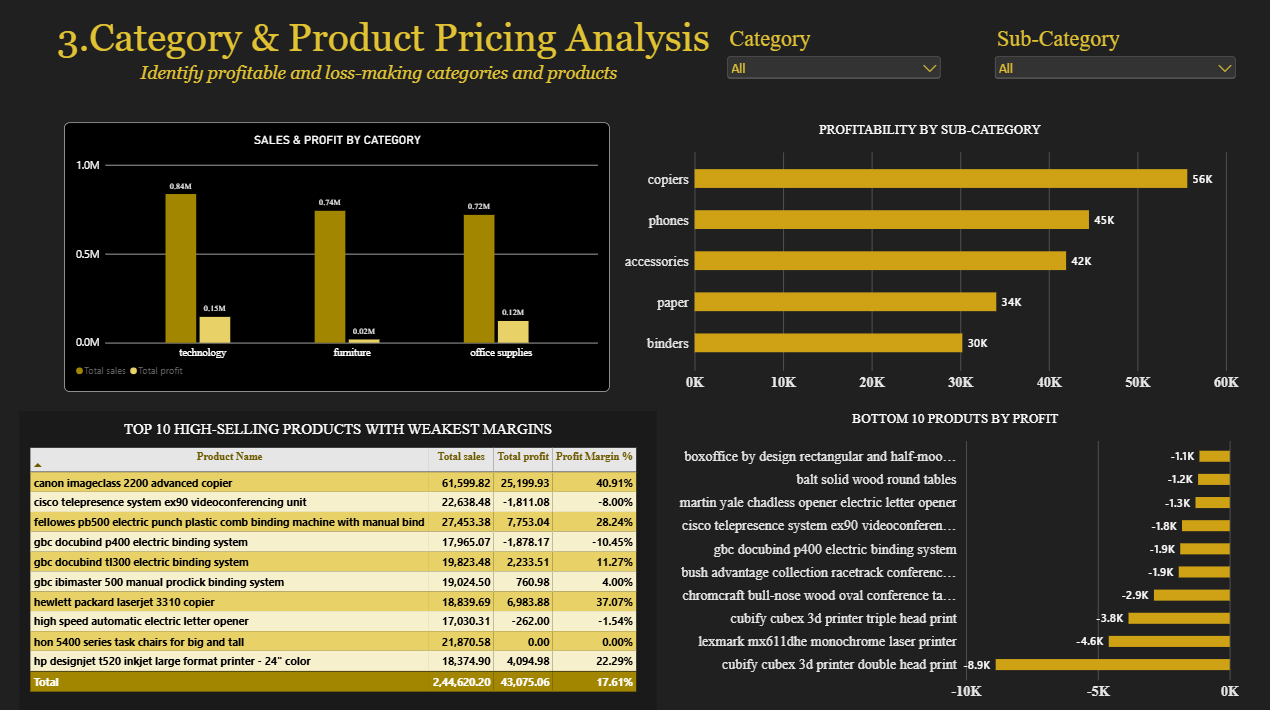

The page's visual inventory and layout, read from the dashboard file:
{"tool":"powerbi","page":{"name":"Category & Product","canvas":[1920,1080],"ordinal":2},"visuals":[{"type":"textbox","box":[70.6,23.5,1024.3,139.3],"z":0},{"type":"clusteredBarChart","title":"BOTTOM 10 PRODUTS BY PROFIT","fields":{"Category":["superstore_cleaned.Product Name"],"Y":["superstore_cleaned.Total profit"]},"box":[1016.7,620.8,856.2,437.5],"z":1000},{"type":"tableEx","title":"TOP 10 HIGH-SELLING PRODUCTS WITH WEAKEST MARGINS","fields":{"Values":["superstore_cleaned.Product Name","superstore_cleaned.Total sales","superstore_cleaned.Total profit","superstore_cleaned.Profit Margin %"]},"box":[31.2,620.8,962.5,458.3],"z":2000},{"type":"barChart","title":"PROFITABILITY BY SUB-CATEGORY","fields":{"Category":["superstore_cleaned.Sub-Category"],"Y":["superstore_cleaned.Total profit"]},"box":[941.7,185.4,931.2,406.2],"z":4000},{"type":"clusteredColumnChart","title":"SALES & PROFIT BY CATEGORY","fields":{"Category":["superstore_cleaned.Category"],"Y":["superstore_cleaned.Total sales","superstore_cleaned.Total profit"]},"box":[100,185.4,822.9,406.2],"z":5000},{"type":"slicer","fields":{"Values":["superstore_cleaned.Sub-Category"]},"box":[1500,39.6,372.9,81.2],"z":6000},{"type":"slicer","fields":{"Values":["superstore_cleaned.Category"]},"box":[1095.8,39.6,331.2,81.2],"z":7000}]}

Visuals, with their boxes in screenshot pixels (x1, y1, x2, y2), scaled from the page's 1920x1080 canvas onto the 1270x710 screenshot:
textbox: [x1=47, y1=15, x2=724, y2=107]
"BOTTOM 10 PRODUTS BY PROFIT" clusteredBarChart: [x1=673, y1=408, x2=1239, y2=696]
"TOP 10 HIGH-SELLING PRODUCTS WITH WEAKEST MARGINS" tableEx: [x1=21, y1=408, x2=657, y2=709]
"PROFITABILITY BY SUB-CATEGORY" barChart: [x1=623, y1=122, x2=1239, y2=389]
"SALES & PROFIT BY CATEGORY" clusteredColumnChart: [x1=66, y1=122, x2=610, y2=389]
slicer - superstore_cleaned.Sub-Category: [x1=992, y1=26, x2=1239, y2=79]
slicer - superstore_cleaned.Category: [x1=725, y1=26, x2=944, y2=79]
